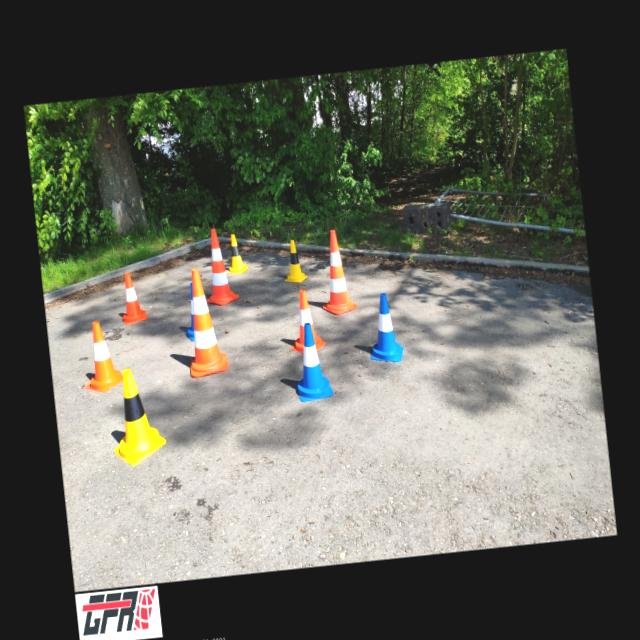blue_cone: (290, 321, 334, 402), (364, 292, 404, 364), (180, 280, 216, 342)
large_orange_cone: (180, 266, 228, 376), (314, 228, 358, 316), (198, 227, 239, 307)
orange_cone: (79, 318, 124, 394), (284, 287, 326, 353), (117, 272, 148, 325)
yellow_cone: (105, 365, 168, 467), (280, 238, 307, 284), (225, 232, 249, 274)
